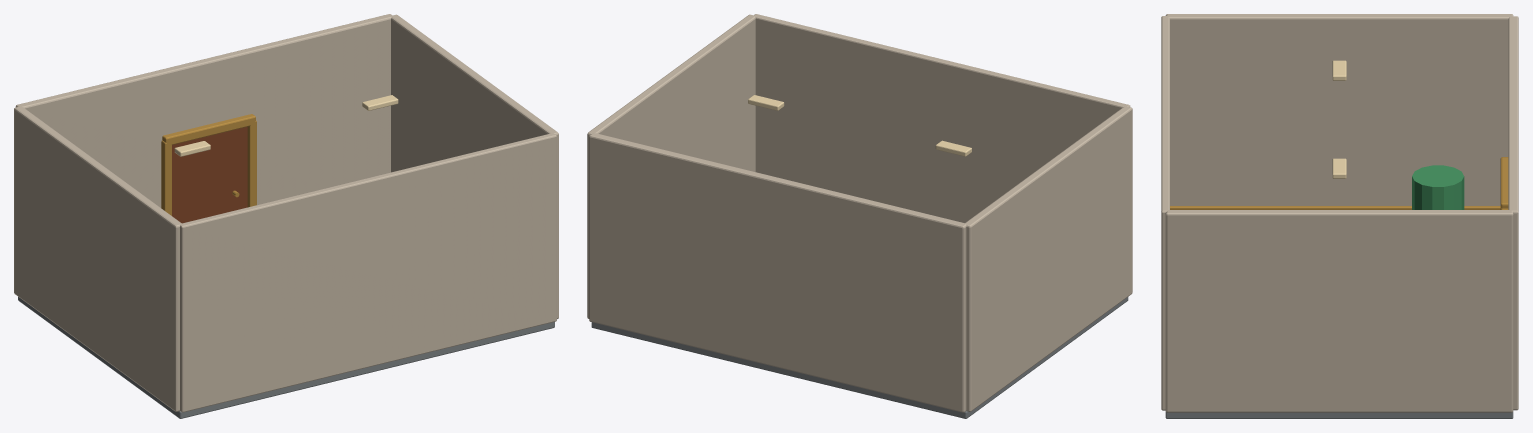
Rendered from apartment_service_loading_a.glb.
3 views of the same model, side by side, from view 1: azimuth 30°, elevation 25°; view 2: azimuth 150°, elevation 25°; view 3: azimuth 270°, elevation 25° (orthographic). The views are drawn at different scales.
Parts seen in each view (by area): view 1: CUTAWAY_FRONT, SET_Wall_Back, SET_Wall_Left, SET_Wall_Right, SET_Entry_Door, SET_Floor, SET_Entry_Header, SET_Entry_Jamb_R, SET_Entry_Jamb_L; view 2: SET_Wall_Back, CUTAWAY_FRONT, SET_Wall_Left, SET_Wall_Right, SET_Floor; view 3: SET_Wall_Right, SET_Wall_Left, SET_Wall_Back, CUTAWAY_FRONT, SET_Floor, PROP_Plant, SET_Trim_Left, SET_Entry_Header.
Boxes of the visible parts, x1,y1,x2,y2 form: CUTAWAY_FRONT: (180,133,556,412); SET_Wall_Back: (15,14,392,207); SET_Wall_Left: (14,106,181,411); SET_Wall_Right: (391,14,558,318); SET_Entry_Door: (172,126,247,223); SET_Floor: (18,297,554,418); SET_Entry_Header: (162,114,255,145); SET_Entry_Jamb_R: (247,120,256,207); SET_Entry_Jamb_L: (161,140,171,215); SET_Wall_Back: (589,133,966,412); CUTAWAY_FRONT: (753,14,1130,222); SET_Wall_Left: (965,106,1132,411); SET_Wall_Right: (587,14,755,318); SET_Floor: (591,297,1128,418); SET_Wall_Right: (1165,210,1513,412); SET_Wall_Left: (1165,14,1513,205); SET_Wall_Back: (1508,16,1518,410); CUTAWAY_FRONT: (1161,16,1169,410); SET_Floor: (1165,411,1513,418); PROP_Plant: (1412,165,1464,209); SET_Trim_Left: (1170,206,1500,209); SET_Entry_Header: (1500,157,1508,208).
Size of what is drawn, in the model's own units: 8.18 by 3.96 by 6.17.
